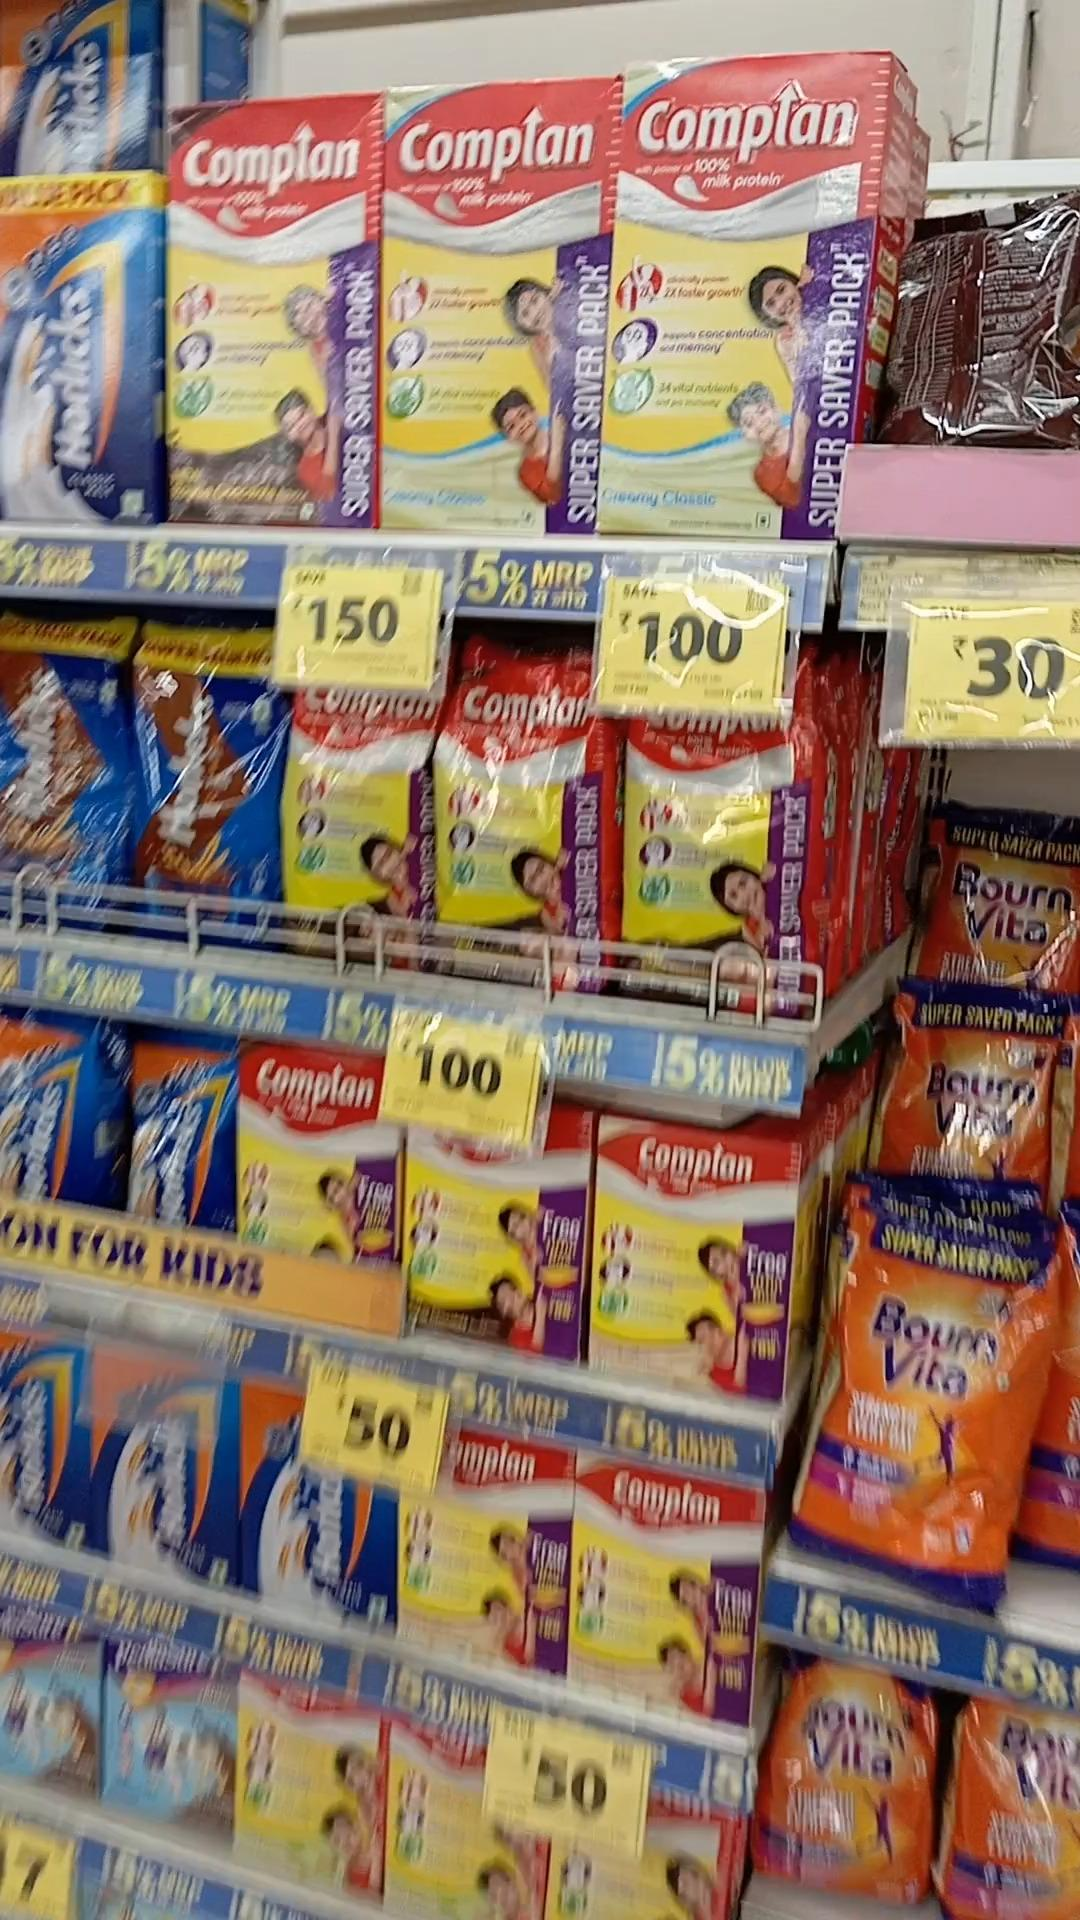BOURN_VITA_1_KG_POUCH: (803, 1203, 1043, 1582)
BOURN_VITA_500_G_POUCH: (761, 1655, 947, 1903)
COMPLAN_CHOCOLATE_1_KG_PACK: (170, 111, 375, 524)
COMPLAN_CHOCOLATE_500_GMS_PACK: (596, 1126, 785, 1403), (410, 1125, 579, 1356), (240, 1043, 400, 1269)
COMPLAN_KESAR_BADAM_500_GMS_PACK: (571, 1462, 757, 1709), (404, 1433, 568, 1677)
COMPLAN_RC_POUCH_700_GMS_12: (436, 621, 613, 982), (628, 715, 799, 1017), (278, 691, 434, 956)
HORLICK_CHOCOLATE_750_G_POUCH: (0, 607, 135, 920), (138, 616, 269, 920)
HORLICK_CLASSIC_MALT_500_G_PACK: (241, 1382, 394, 1626), (88, 1352, 235, 1571)
HORLICK_CLASSIC_MALT_750_G_POUCH: (128, 1036, 233, 1247), (0, 1017, 117, 1197)
